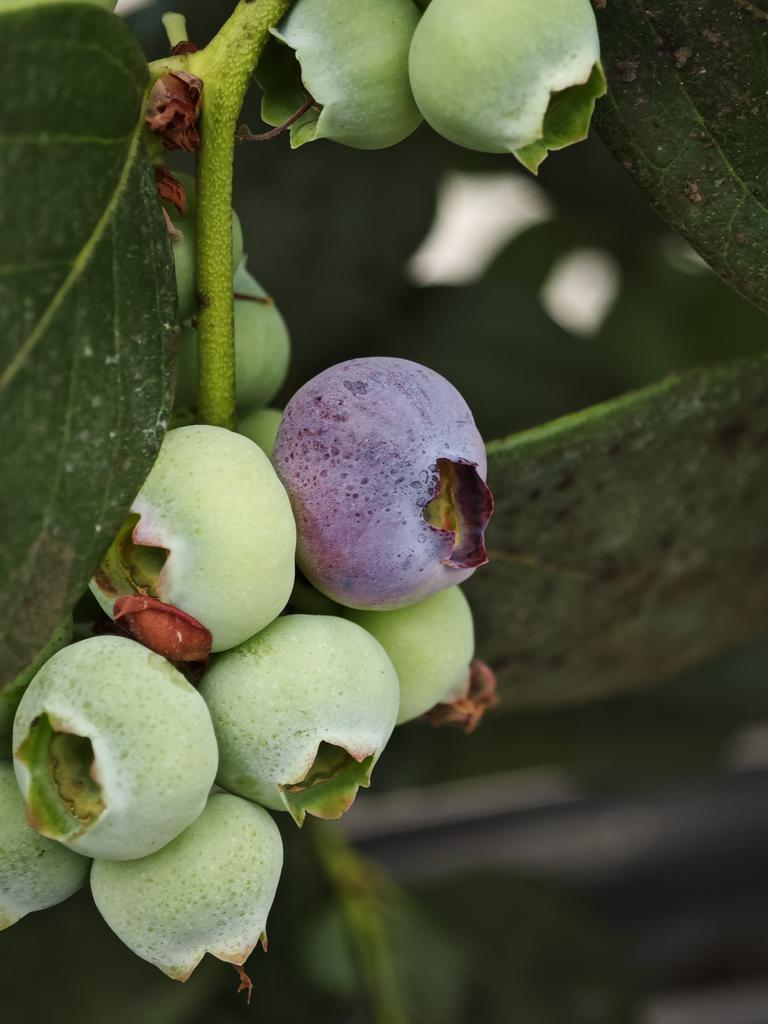Semi-RipeBlueBerry: (279, 349, 498, 616)
UnripeBlueBerry: (9, 630, 223, 864), (198, 610, 409, 830)
